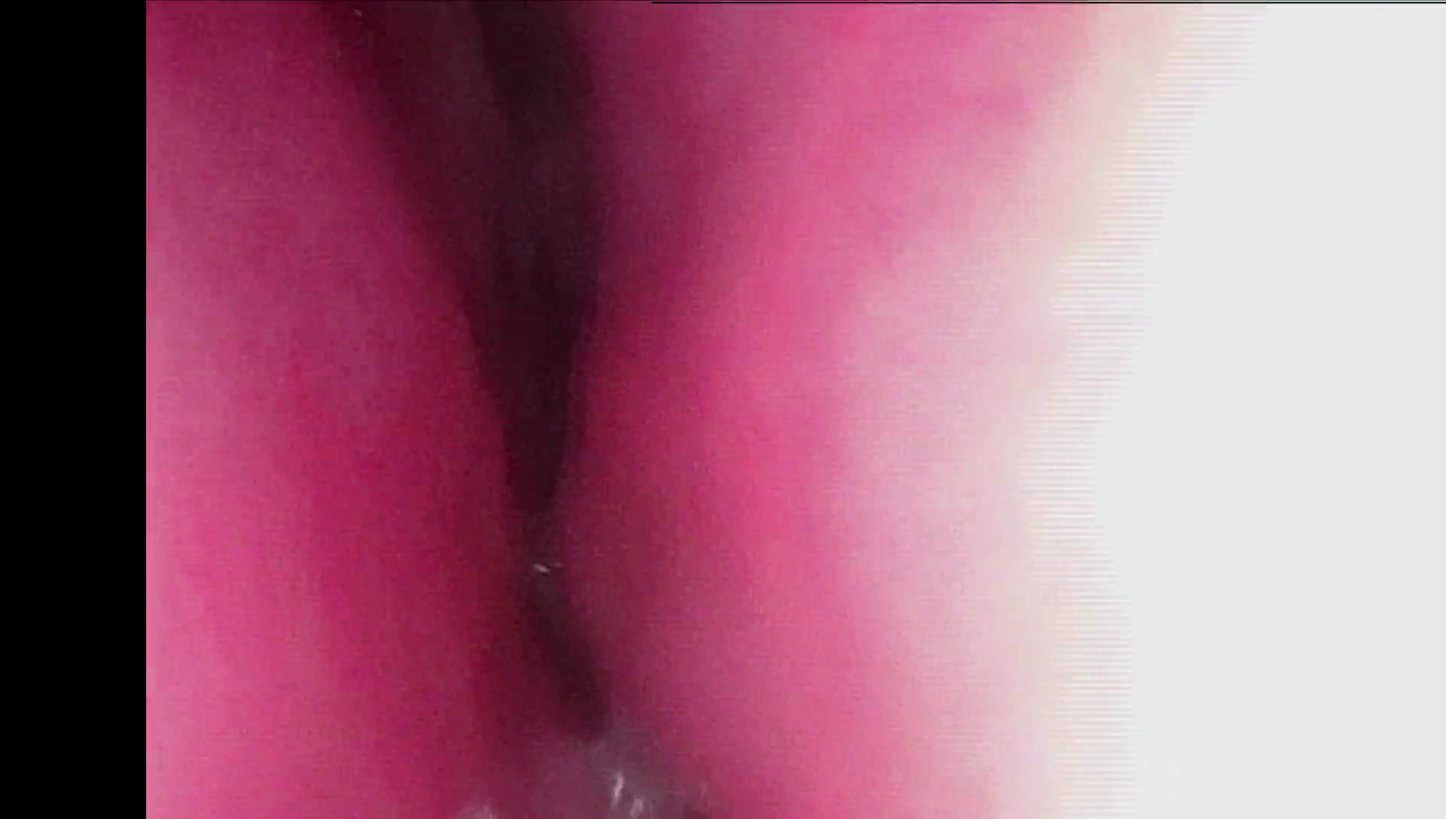close_wall: (864, 7, 1446, 819)
next: (447, 84, 618, 623)
